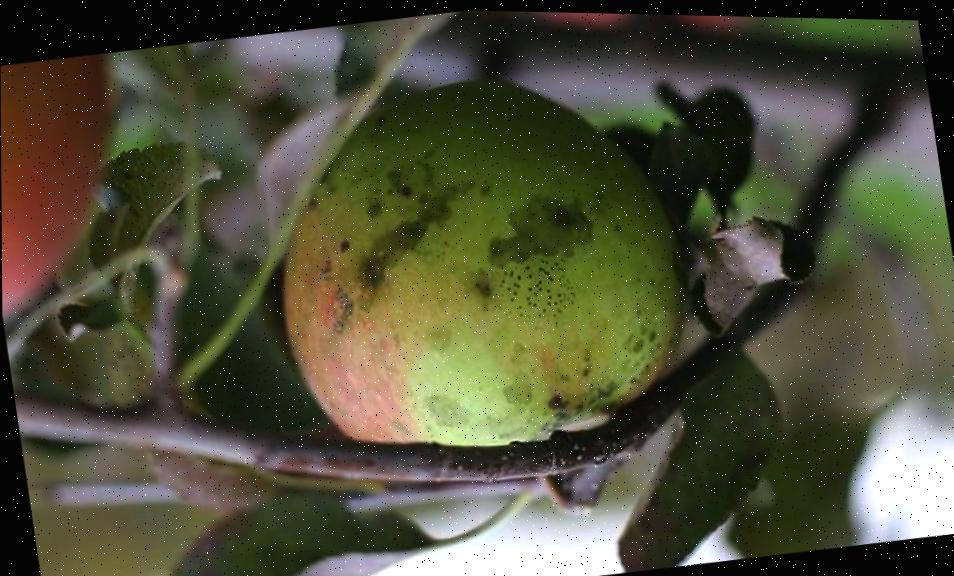BLOTCH: (203, 42, 759, 532)
